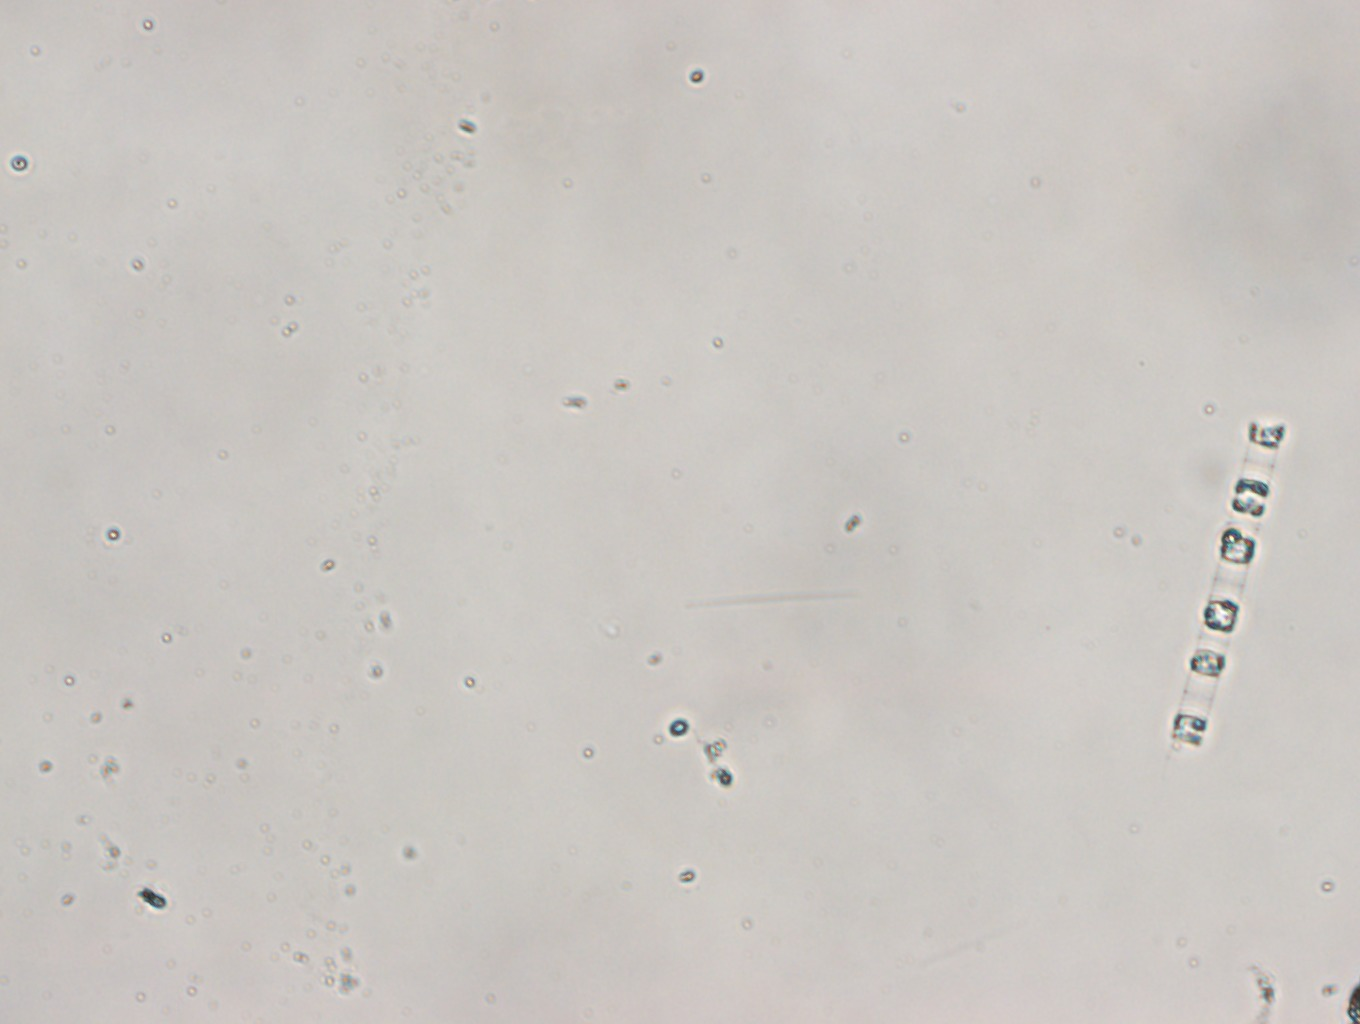skeletonema: (1166, 421, 1283, 762)
